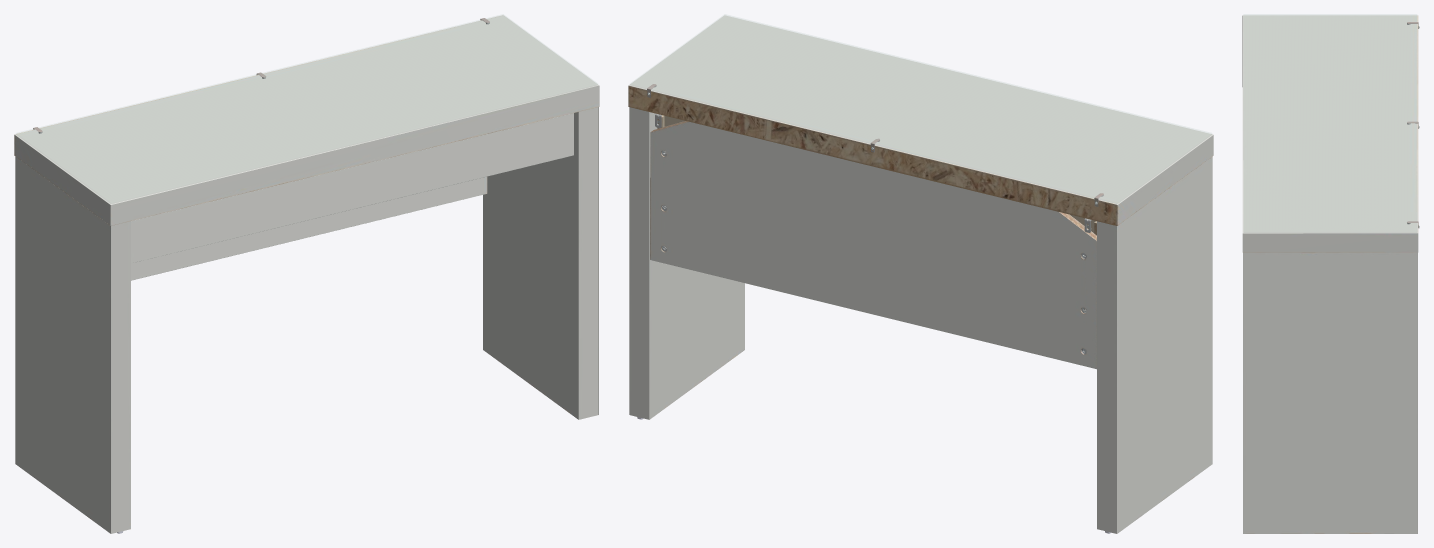
File: malm_toaletka_70620346.glb
The picture shows the model from 3 angles, left to right: view 1: azimuth 30°, elevation 25°; view 2: azimuth 150°, elevation 25°; view 3: azimuth 270°, elevation 25°; orthographic projection. The views are drawn at different scales.
Visible parts, largest first — view 1: malm_toaletka_70620346; view 2: malm_toaletka_70620346; view 3: malm_toaletka_70620346.
Part boxes in pixels (box(x1,y1,x2,y2)): malm_toaletka_70620346: box(14, 15, 599, 533); malm_toaletka_70620346: box(628, 15, 1213, 533); malm_toaletka_70620346: box(1242, 15, 1419, 533).
Bounding box in the file's own units: 1.2 × 0.7837 × 0.413.
2 materials, 2 textured.
